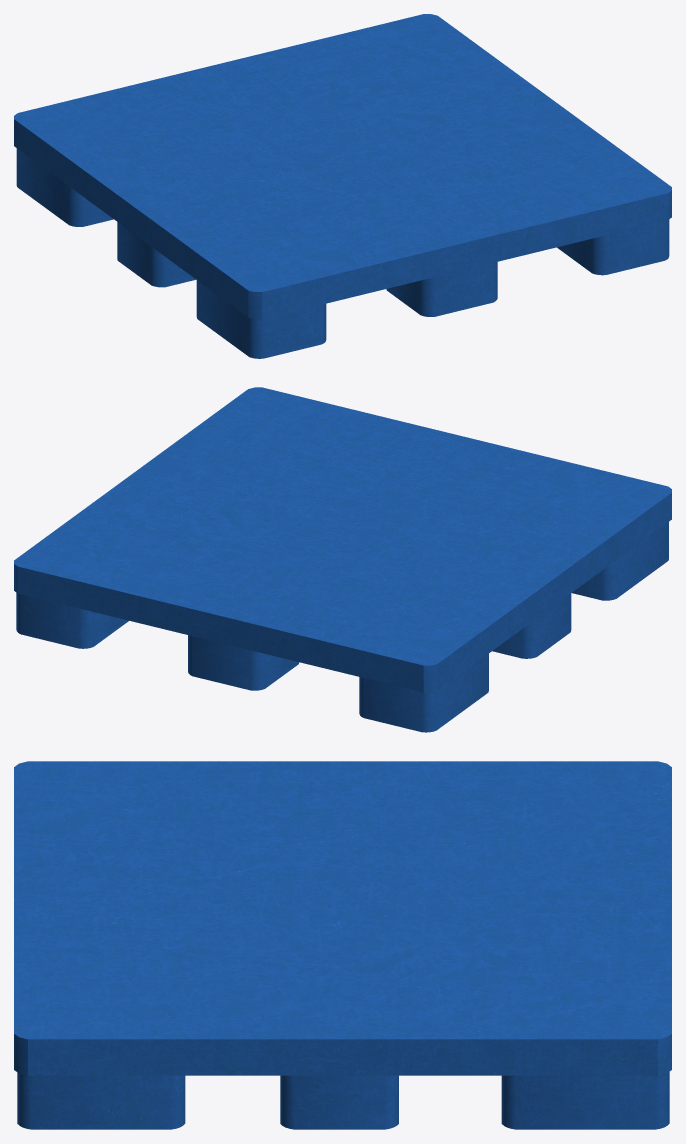
Rendered from SM_货物托架01.FBX.
The picture shows the model from 3 angles, top to bottom: view 1: azimuth 30°, elevation 25°; view 2: azimuth 150°, elevation 25°; view 3: azimuth 270°, elevation 25°; orthographic projection. The views are drawn at different scales.
Parts seen in each view (by area): view 1: SM_货物托架01; view 2: SM_货物托架01; view 3: SM_货物托架01.
Boxes of the visible parts, x1,y1,x2,y2 form: SM_货物托架01: (14,14,671,358); SM_货物托架01: (14,387,671,732); SM_货物托架01: (14,761,671,1129).
Size of the model in its own units: 1000 by 153 by 1000.
